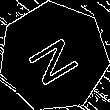N_NE: (22, 26, 86, 87)
